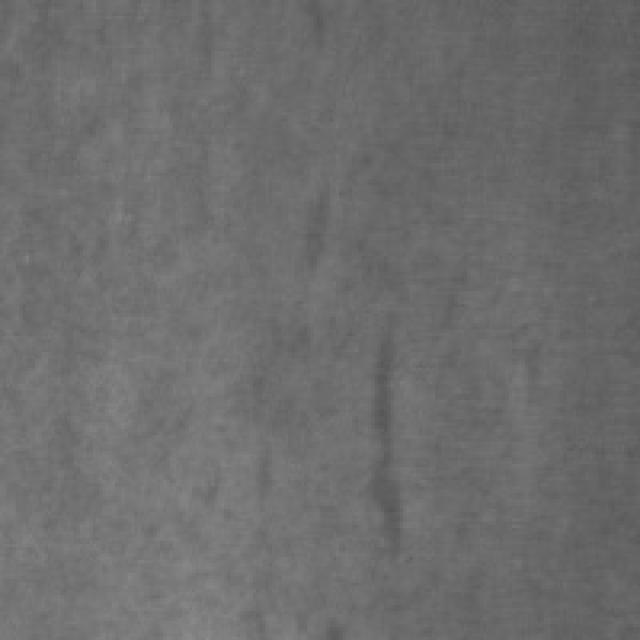inclusion: (349, 294, 422, 570), (276, 163, 342, 288)
